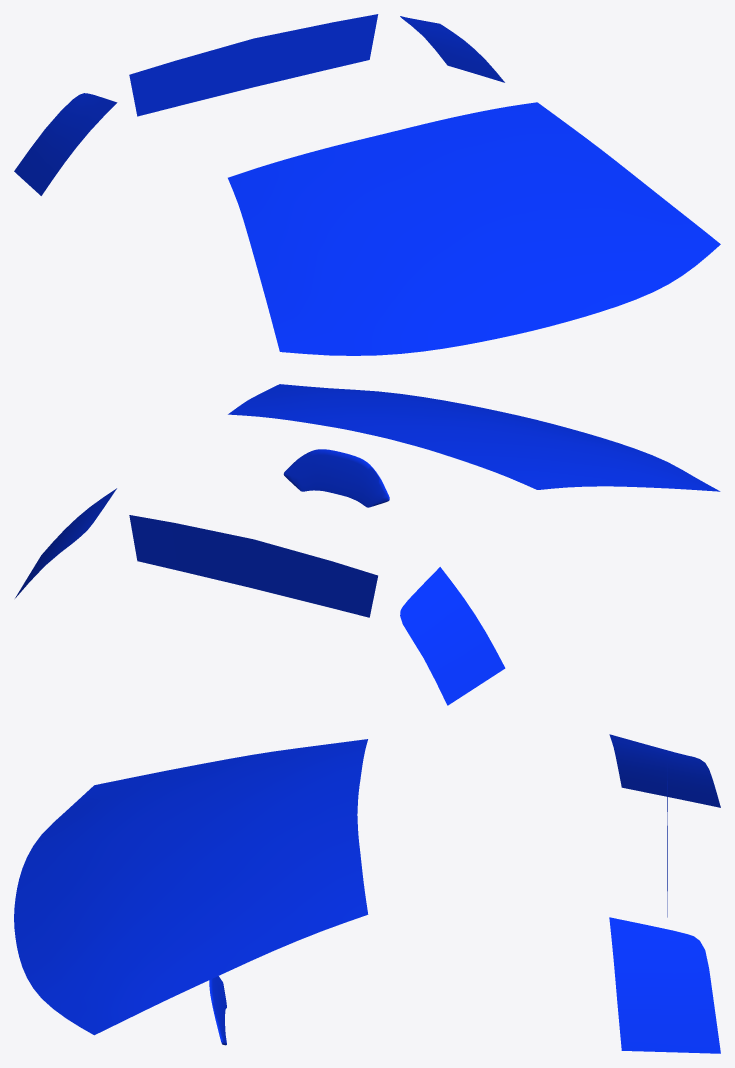
The model's file is Murcielago-Glasses.fbx.
The picture shows the model from 3 angles, top to bottom: view 1: azimuth 30°, elevation 25°; view 2: azimuth 150°, elevation 25°; view 3: azimuth 270°, elevation 25°; orthographic projection. The views are drawn at different scales.
Visible parts, largest first — view 1: polymsh121, SS_VidrioInterior; view 2: polymsh121, SS_VidrioInterior; view 3: polymsh121.
Part boxes in pixels (x1=…): polymsh121: x1=14, y1=16, x2=720, y2=355; SS_VidrioInterior: x1=129, y1=14, x2=378, y2=116; polymsh121: x1=15, y1=384, x2=720, y2=705; SS_VidrioInterior: x1=129, y1=515, x2=377, y2=617; polymsh121: x1=14, y1=734, x2=720, y2=1053.
Bounding box in the file's own units: 3.25 × 0.863 × 3.69.
